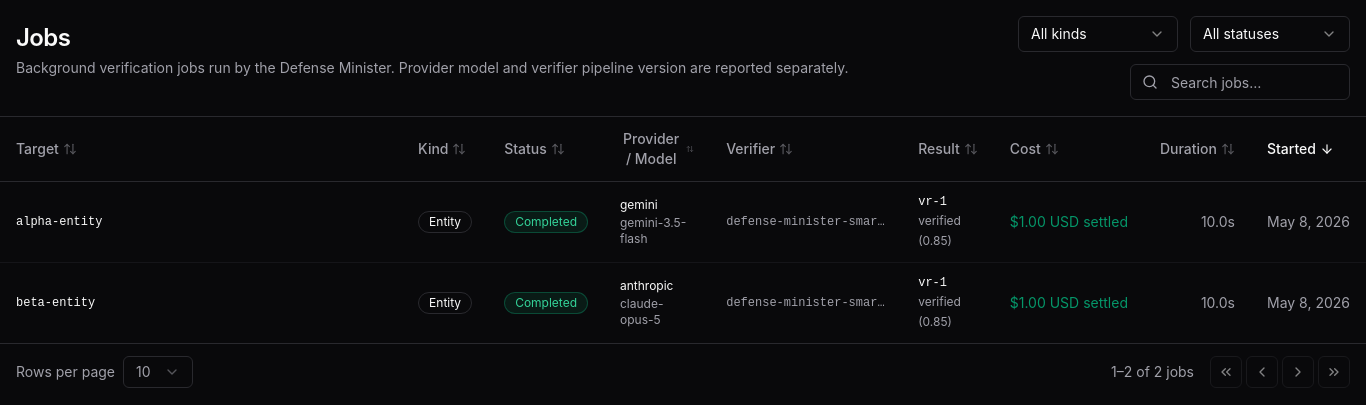
it: JobsTable — filters › searches across target, endpoints, providers, models and verifier
Type "claude-opus" into the search field with test id "jobs-search-input".
click(1240, 82); type("claude-opus")  # box left=1130, top=64, right=1350, bottom=100
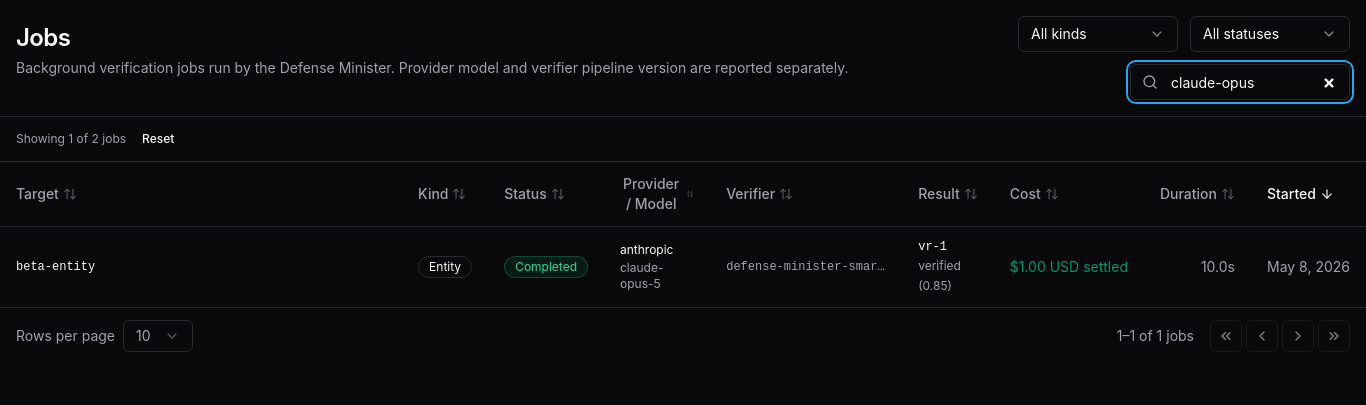
Expected: the row with test id "job-row-b" is shown, left=0, top=226, right=1365, bottom=307
Now the row with test id "job-row-a" is gone
